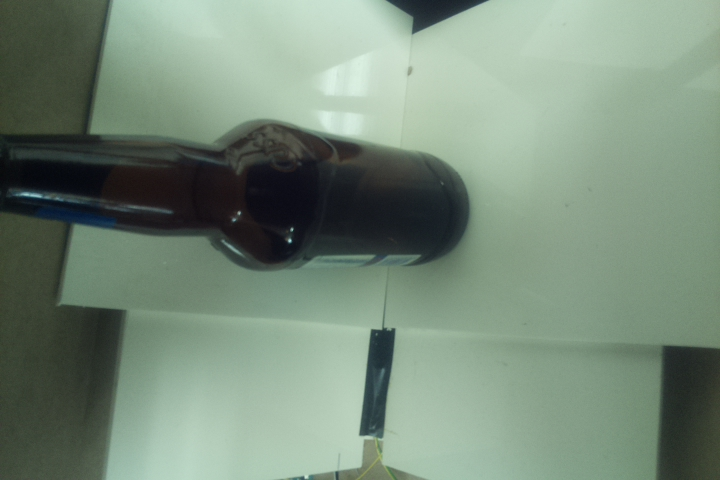makju: (1, 116, 471, 275)
